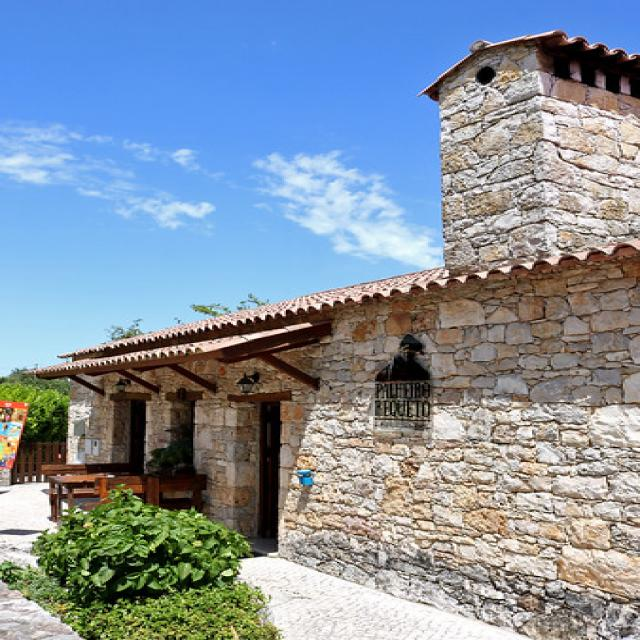Normal_building: (19, 29, 640, 615)
